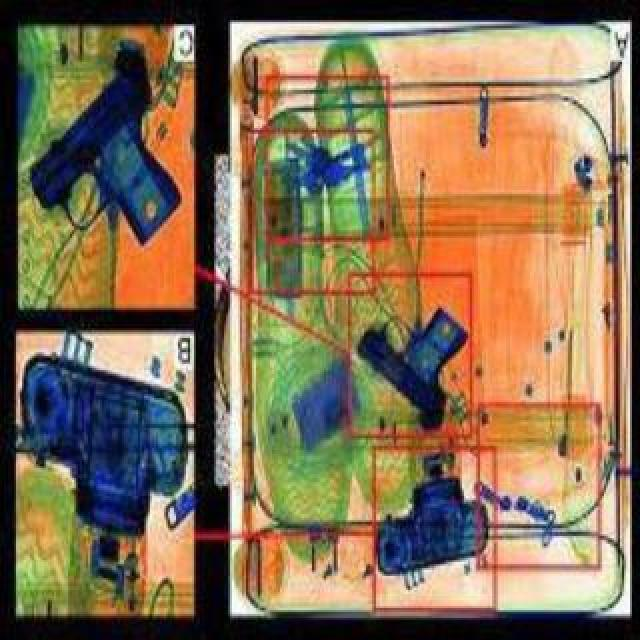gun: (24, 32, 180, 240), (352, 300, 468, 422)
